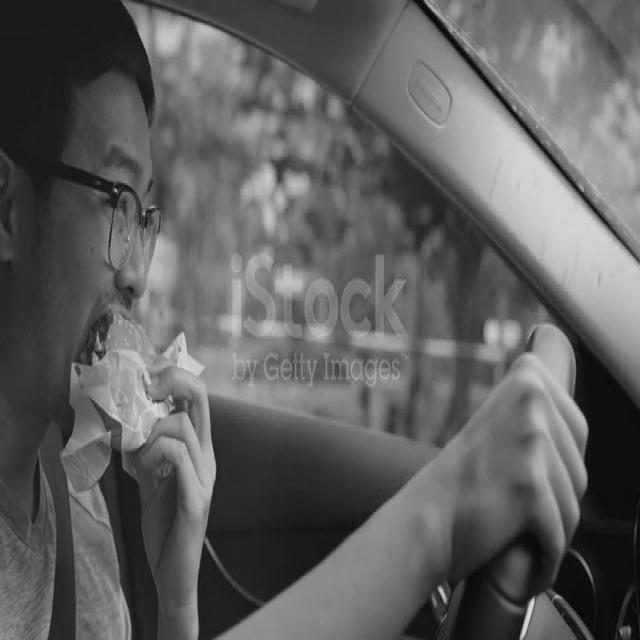Eating: (21, 100, 216, 560)
